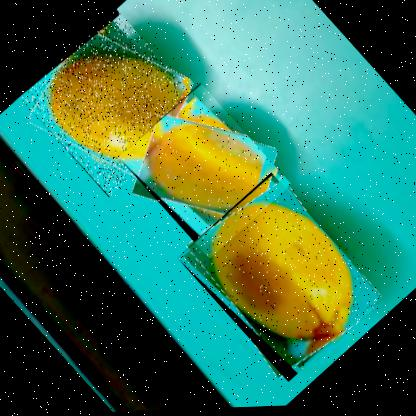orange_rotten: (177, 169, 384, 387), (19, 6, 208, 200), (118, 80, 292, 262)
